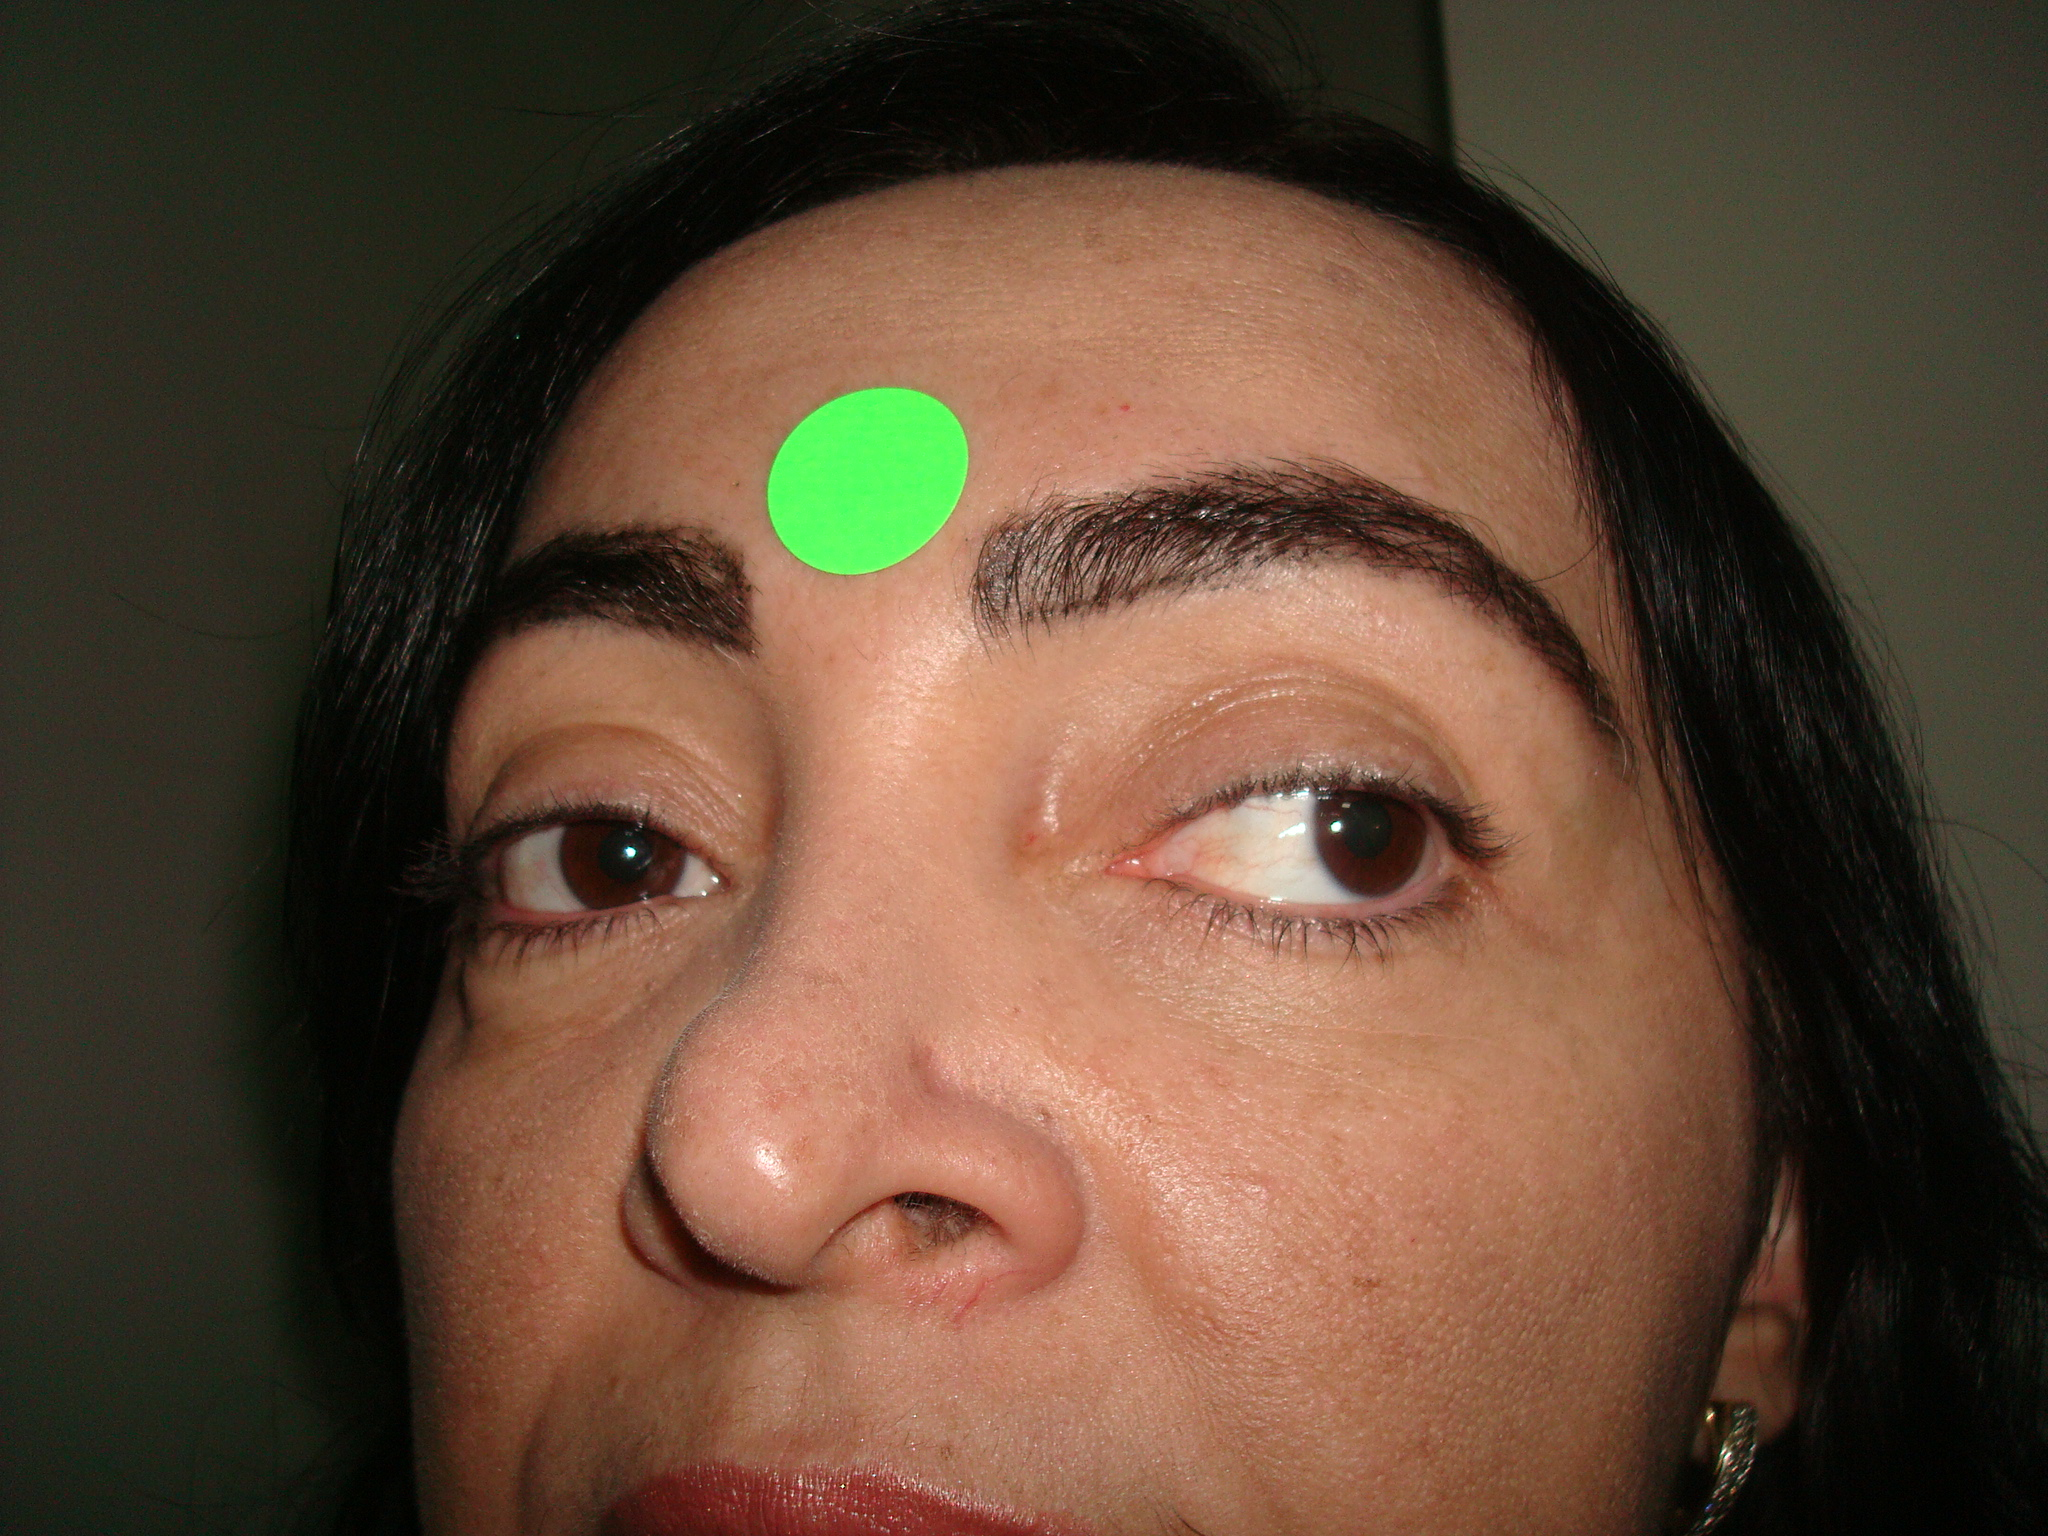flash: (624, 841, 640, 862), (1329, 820, 1342, 836)
limbo: (558, 802, 692, 912), (1314, 770, 1421, 891)
